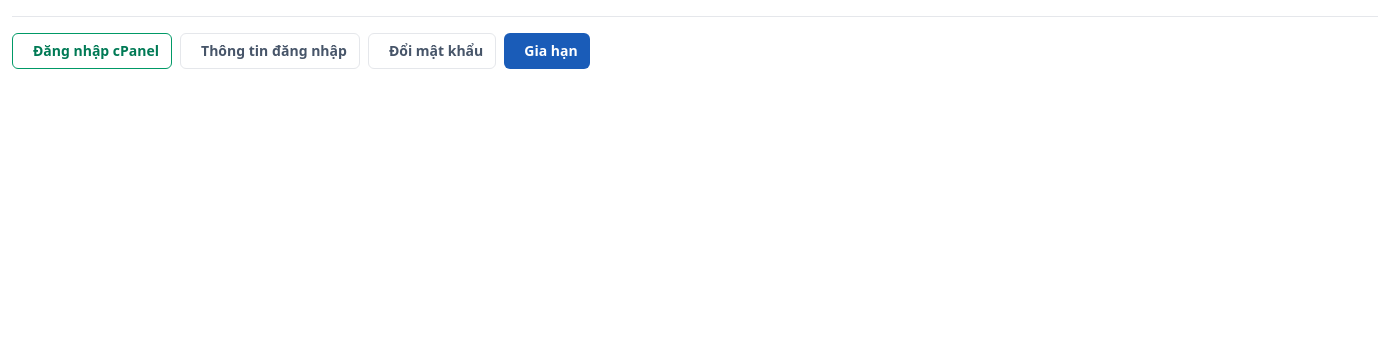
Scenario: HostingServiceActions › keeps the same idempotency key when a hosting renewal is retried
Click the button "Gia hạn": (547, 51) [504,33,590,69]
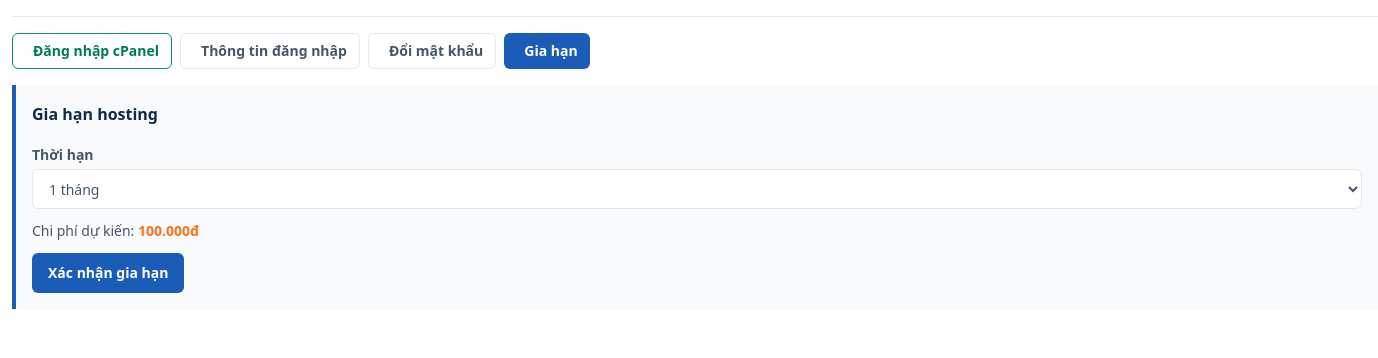
Click the button "Xác nhận gia hạn": (108, 273) [32,253,184,293]
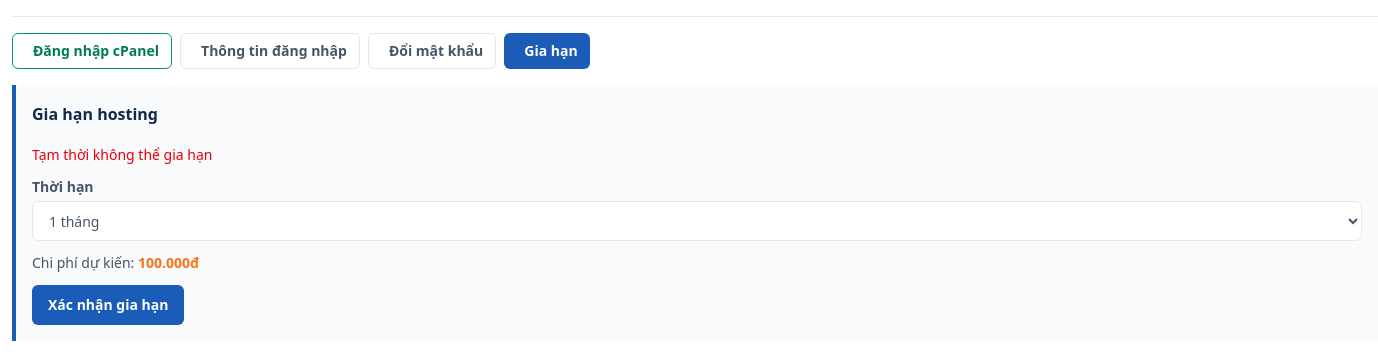
Result: the message "Tạm thời không thể gia hạn" is shown at [32,145,212,164]
Click the button "Xác nhận gia hạn": (108, 305) [32,285,184,325]
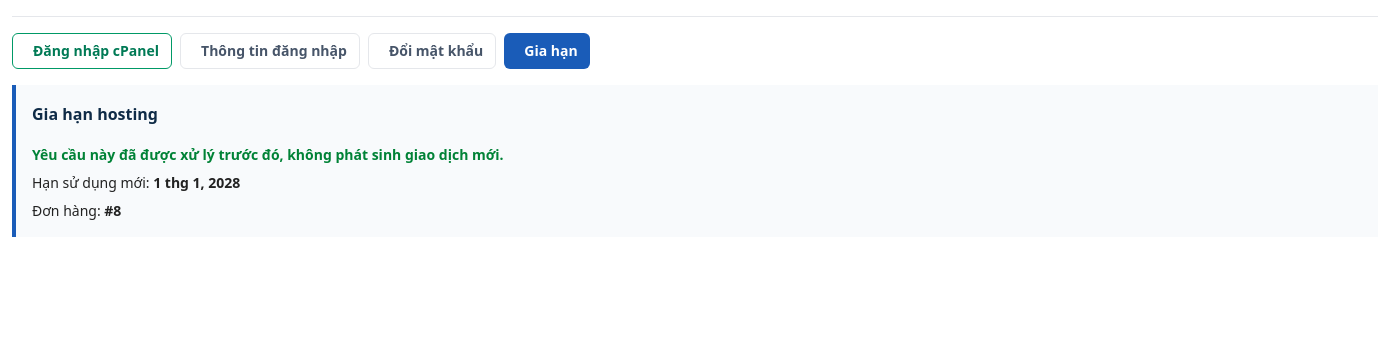
Result: the text "không phát sinh giao dịch mới" is shown at [32,145,504,164]
